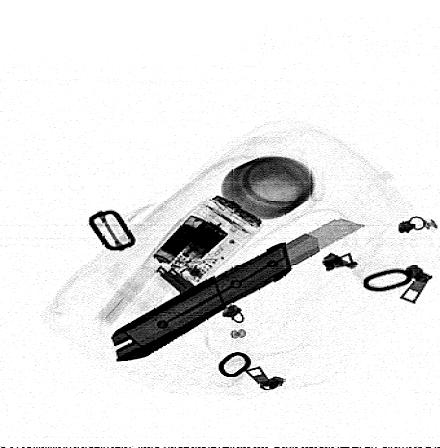Knife: (109, 217, 369, 363)
